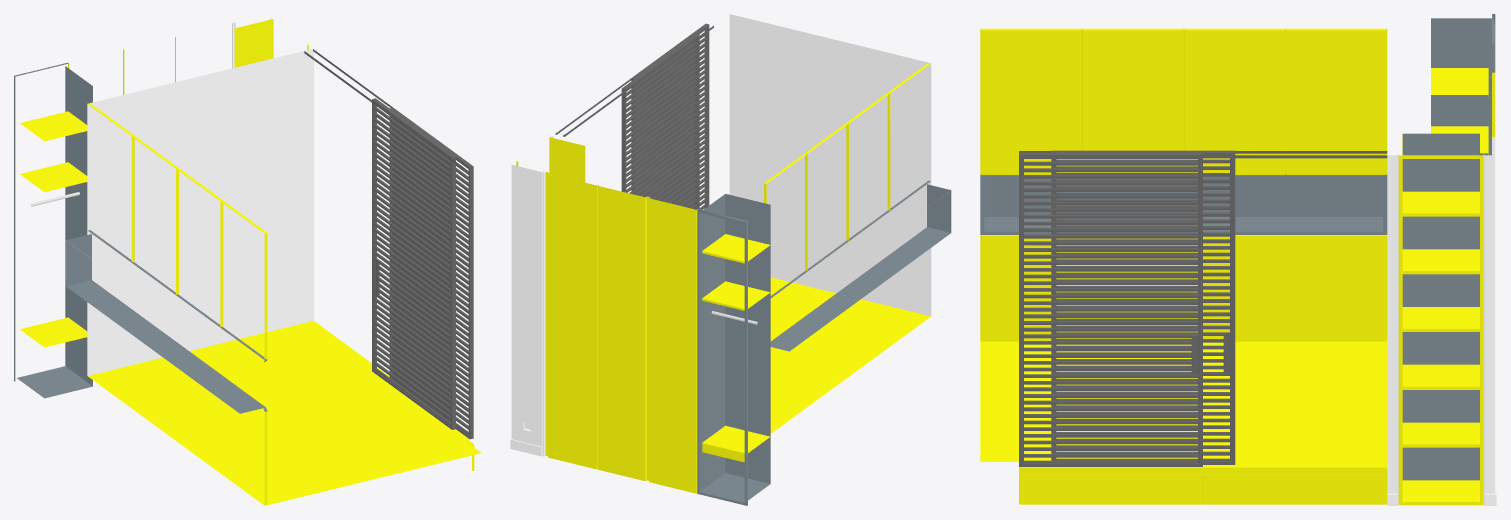
The model's file is SM_Bed_Corner.glb.
3 renders of one model, left to right at view 1: azimuth 30°, elevation 25°; view 2: azimuth 150°, elevation 25°; view 3: azimuth 270°, elevation 25°, orthographic. The views are drawn at different scales.
Visible parts, largest first — view 1: SM_Bed_Corner; view 2: SM_Bed_Corner; view 3: SM_Bed_Corner.
Part boxes in pixels (box(x1,y1,x2,y2)): SM_Bed_Corner: box(14, 17, 481, 505); SM_Bed_Corner: box(510, 14, 951, 505); SM_Bed_Corner: box(980, 14, 1496, 505).
Bounding box in the file's own units: 2.61 × 3 × 4.01.
7 materials, 2 textured.
